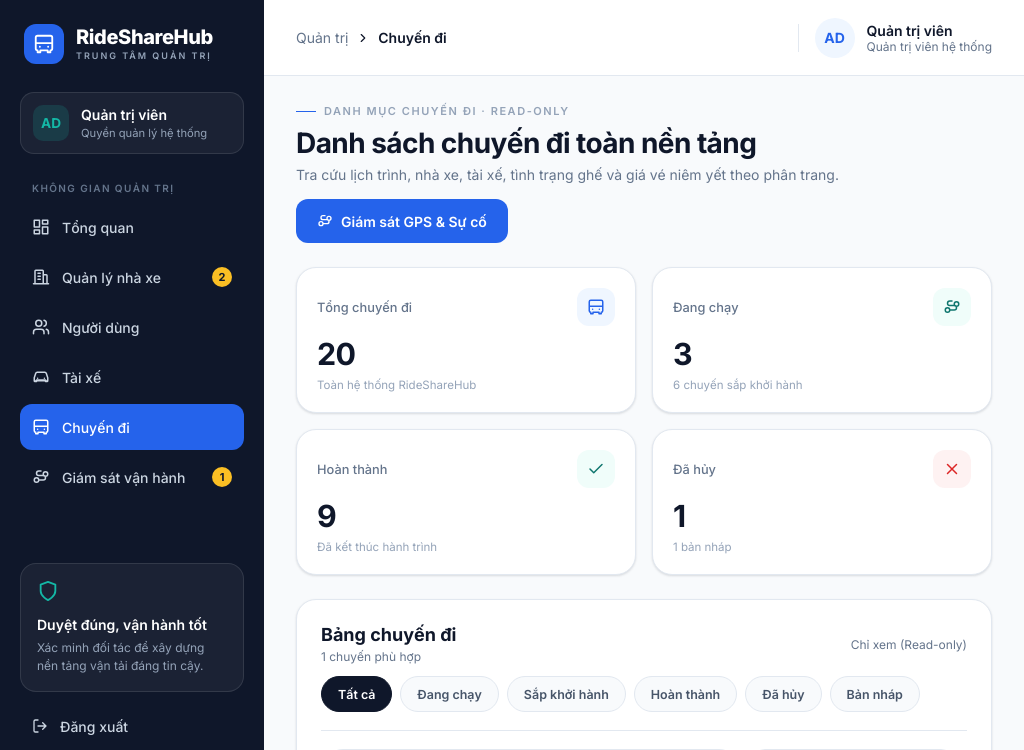
Test: SP4-P1-02 & SP4-P1-04b: Admin Dashboard & Read-Only Directories › renders AdminTripsPage with read-only trips table and handles error state
Click the tab "Hoàn thành": (686, 694) x1=634 y1=676 x2=737 y2=712
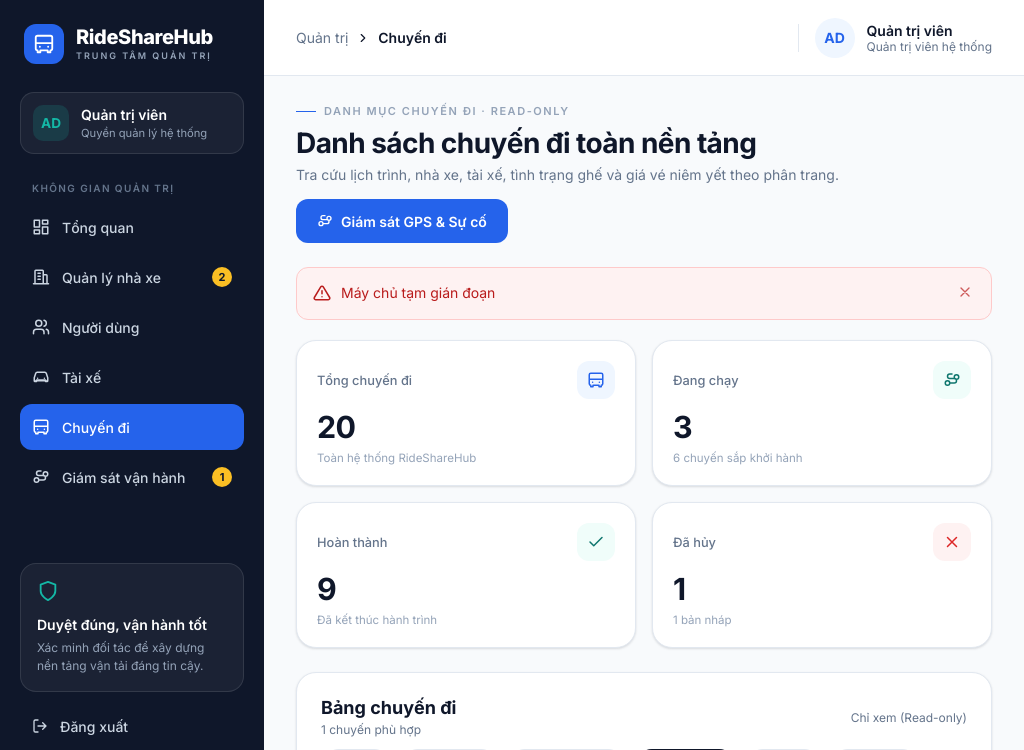
Check: the text "Máy chủ tạm gián đoạn" is shown, box x1=341 y1=284 x2=495 y2=301
